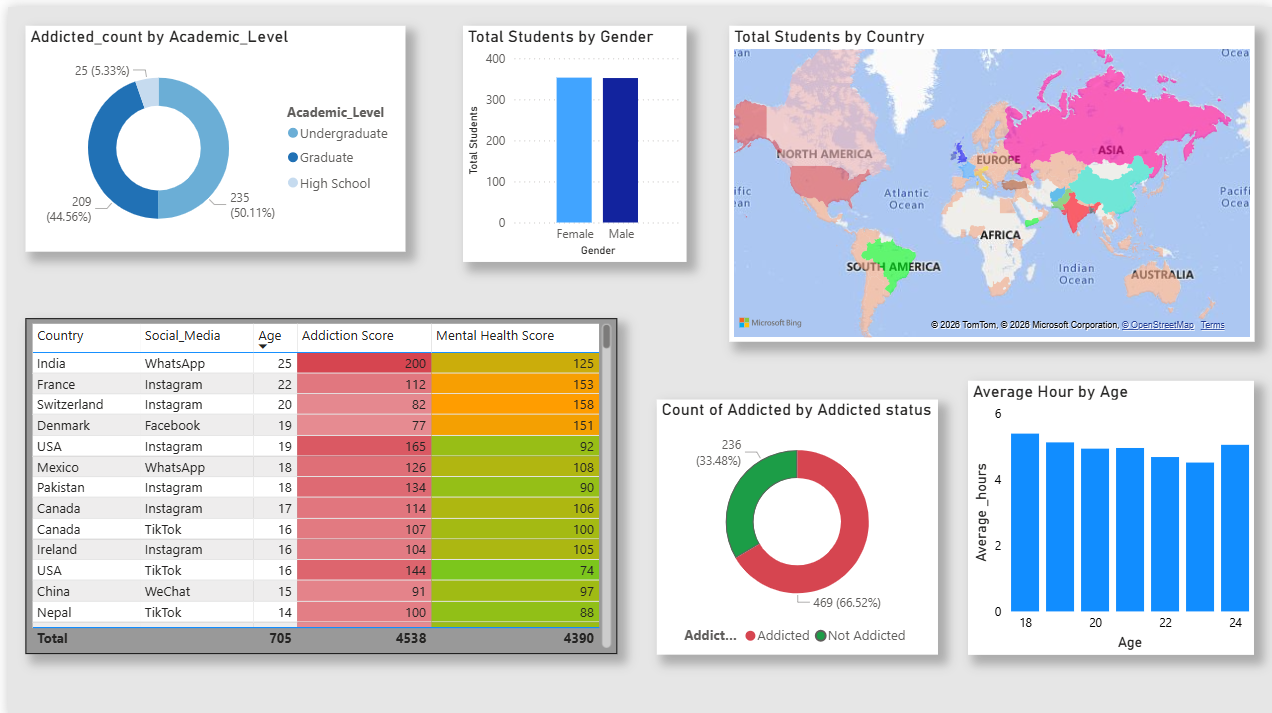

This screenshot's page, from the dashboard's own definition file:
{"tool":"powerbi","page":{"name":"Page 2","canvas":[1280,720],"ordinal":1},"visuals":[{"type":"donutChart","fields":{"Category":["Students_Social_Media_Addiction.Academic_Level"],"Y":["Students_Social_Media_Addiction.Addicted_count"]},"box":[17.1,19.6,299.6,226.2],"z":0},{"type":"clusteredColumnChart","fields":{"Y":["Sum(Count_of_gender.Count)"],"Category":["Count_of_gender.Gender"]},"box":[370.5,30.6,227.4,239.7],"z":1000},{"type":"tableEx","fields":{"Values":["Students_Social_Media_Addiction.Country","Students_Social_Media_Addiction.Most_Used_Platform","CountNonNull(Students_Social_Media_Addiction.Age)","Sum(Students_Social_Media_Addiction.Addicted_Score)","Sum(Students_Social_Media_Addiction.Mental_Health_Score)"]},"box":[17.1,315.5,599.2,339.9],"z":2000},{"type":"filledMap","fields":{"Category":["Students_Social_Media_Addiction.Country"]},"box":[730,19.6,531.9,320.4],"z":3000},{"type":"donutChart","title":"Count of Addicted by Addicted status","fields":{"Category":["Students_Social_Media_Addiction.Addicted_status"],"Y":["CountNonNull(Students_Social_Media_Addiction.Addicted_status)"]},"box":[656.7,397.4,284.9,258],"z":11000},{"type":"clusteredColumnChart","title":"Average  Hour by Age","fields":{"Y":["Students_Social_Media_Addiction.Average _hours"],"Category":["Students_Social_Media_Addiction.Age"]},"box":[972.2,377.9,289.8,277.6],"z":12000}]}

Visuals, with their boxes in screenshot pixels (x1, y1, x2, y2), scaled from the page's 1280x720 canvas onto the 1272x713 screenshot:
donutChart - Students_Social_Media_Addiction.Academic_Level x Students_Social_Media_Addiction.Addicted_count: <box>17,19,315,243</box>
clusteredColumnChart - Sum(Count_of_gender.Count) x Count_of_gender.Gender: <box>368,30,594,268</box>
tableEx - Students_Social_Media_Addiction.Country x Students_Social_Media_Addiction.Most_Used_Platform: <box>17,312,612,649</box>
filledMap - Students_Social_Media_Addiction.Country: <box>725,19,1254,337</box>
"Count of Addicted by Addicted status" donutChart: <box>653,394,936,649</box>
"Average  Hour by Age" clusteredColumnChart: <box>966,374,1254,649</box>
